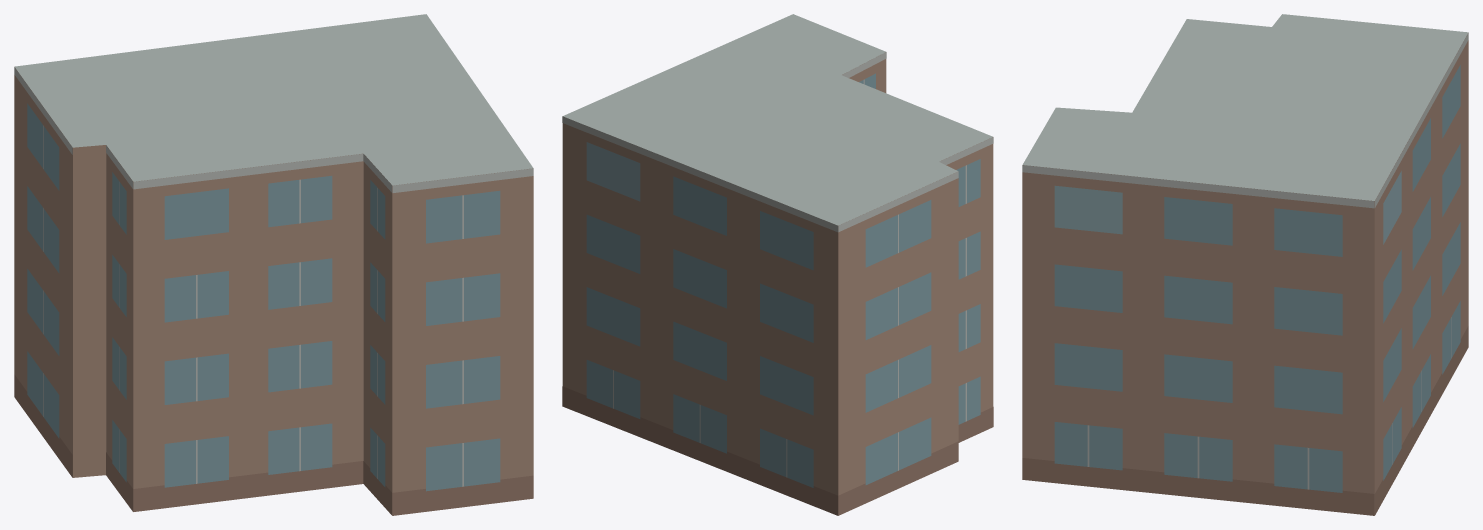
Rendered from survey-upis-33044844.glb.
3 renders of one model, left to right at view 1: azimuth 30°, elevation 25°; view 2: azimuth 150°, elevation 25°; view 3: azimuth 270°, elevation 25°, orthographic. The views are drawn at different scales.
Parts seen in each view (by area): view 1: survey-upis-33044844.tmp; view 2: survey-upis-33044844.tmp; view 3: survey-upis-33044844.tmp.
Boxes of the visible parts, x1=… form: survey-upis-33044844.tmp: x1=14, y1=14, x2=533, y2=515; survey-upis-33044844.tmp: x1=562, y1=14, x2=993, y2=515; survey-upis-33044844.tmp: x1=1022, y1=14, x2=1468, y2=515.
Size of the model in its own units: 13.39 by 10.5 by 13.5.
